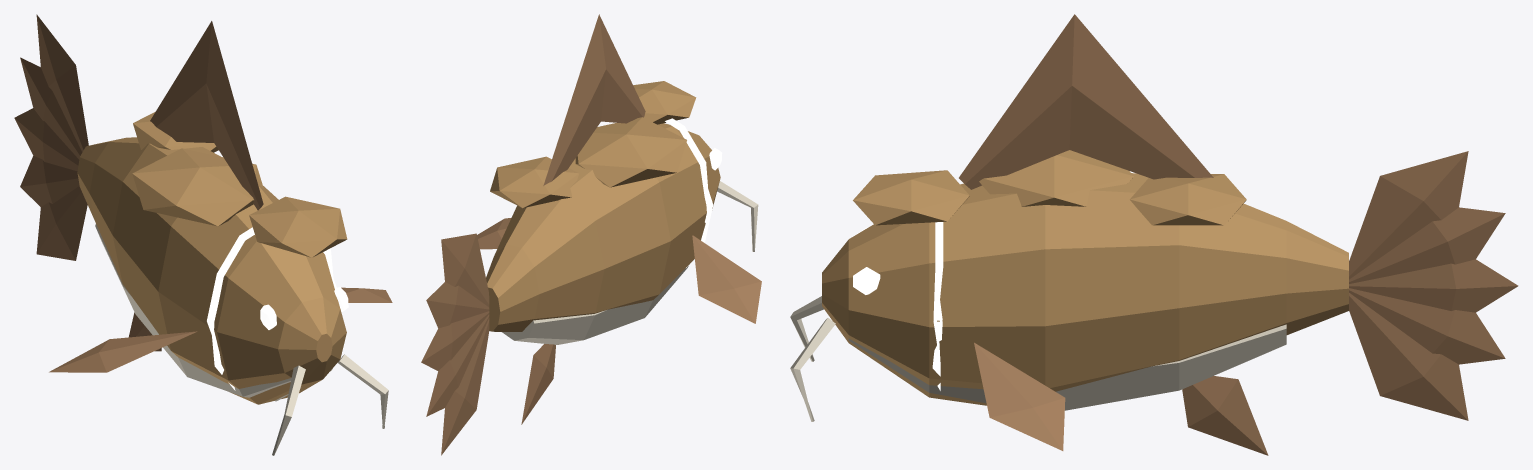
The model's file is beast-carp.glb.
3 views of the same model, side by side, from view 1: azimuth 30°, elevation 25°; view 2: azimuth 150°, elevation 25°; view 3: azimuth 270°, elevation 25° (orthographic). The views are drawn at different scales.
Visible parts, largest first — view 1: carp_body, wing_r, wing_l; view 2: carp_body, wing_r, wing_l; view 3: carp_body, wing_l.
Part boxes in pixels (left/top/right/bottom): carp_body: left=14, top=14, right=388, bottom=455; wing_r: left=49, top=331, right=197, bottom=372; wing_l: left=341, top=287, right=392, bottom=302; carp_body: left=421, top=14, right=758, bottom=455; wing_r: left=692, top=235, right=761, bottom=323; wing_l: left=477, top=217, right=511, bottom=249; carp_body: left=790, top=14, right=1518, bottom=455; wing_l: left=974, top=342, right=1065, bottom=450.
Bounding box in the file's own units: 0.49 × 0.5459 × 0.8156.
